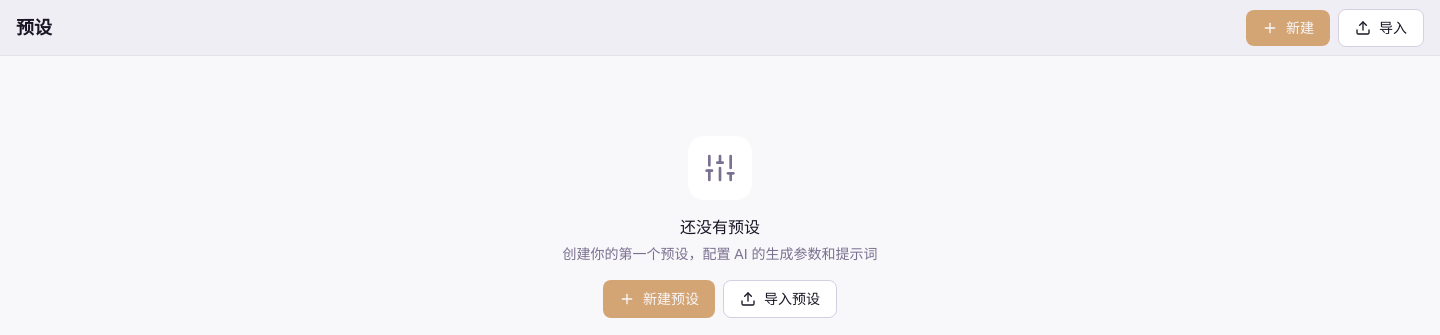
Test: PresetsPage › 导入标准格式后显示转换结果与未支持字段
Click the button "导入". click: (1381, 28)
box: [1338,8,1424,46]
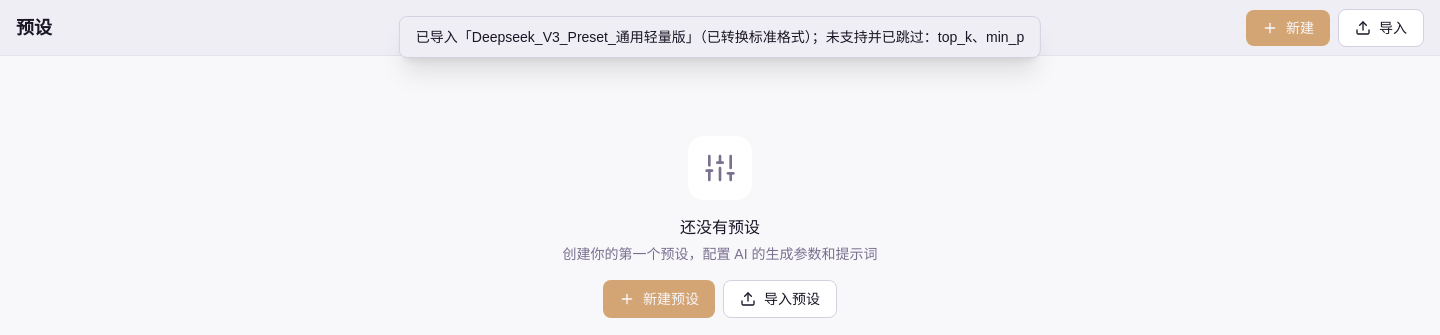
Now the message shows "已转换标准格式", box [416,29,1024,45]
Now the message shows "top_k、min_p", box [416,29,1024,45]
